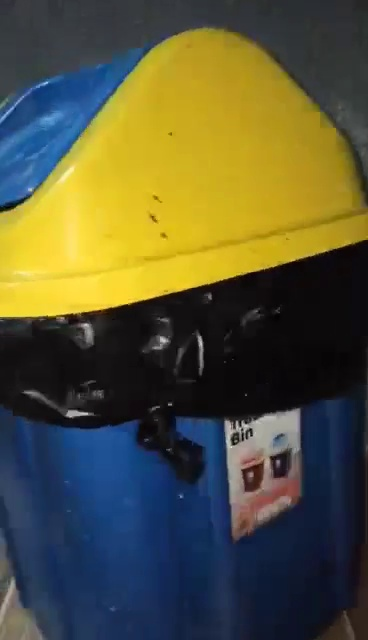garbagebin: (1, 19, 366, 640)
